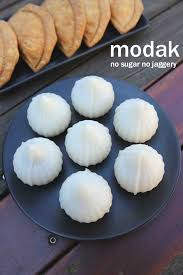modak: (107, 91, 165, 138), (61, 172, 116, 220), (68, 119, 118, 171), (118, 142, 166, 194), (14, 136, 62, 185), (28, 90, 71, 137), (73, 75, 120, 115)
